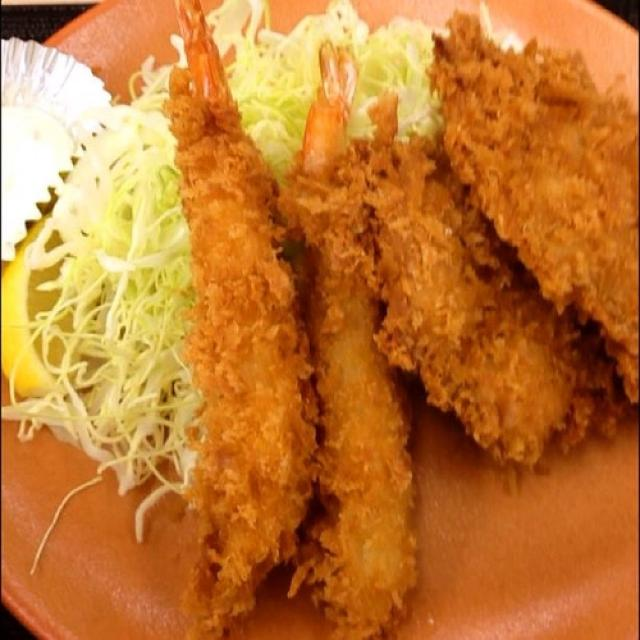牛肉菜式: (39, 10, 634, 636)
